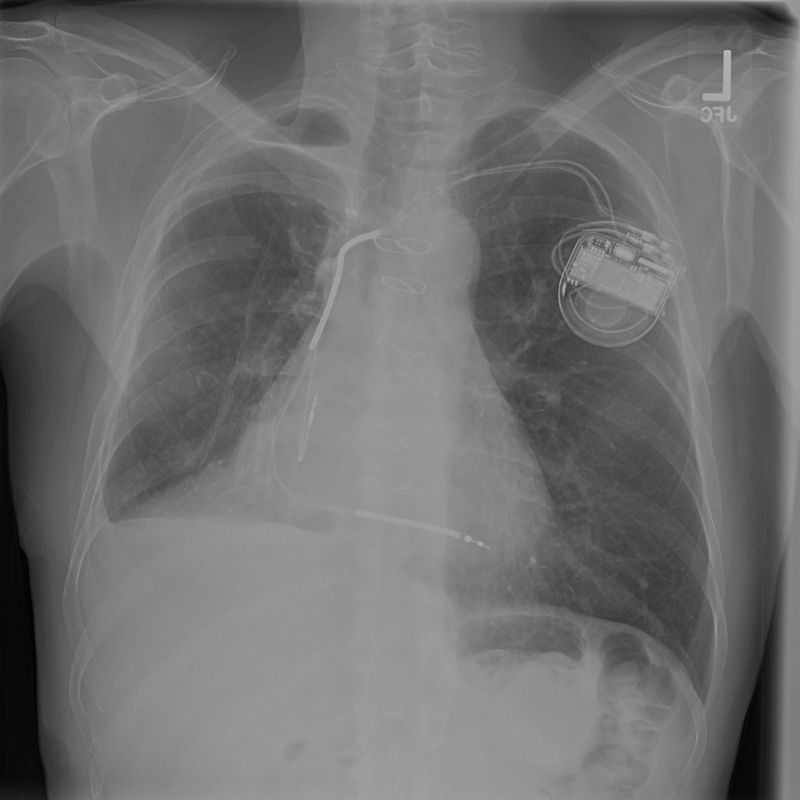PLEURAL EFFUSION: (85, 501, 239, 590)
